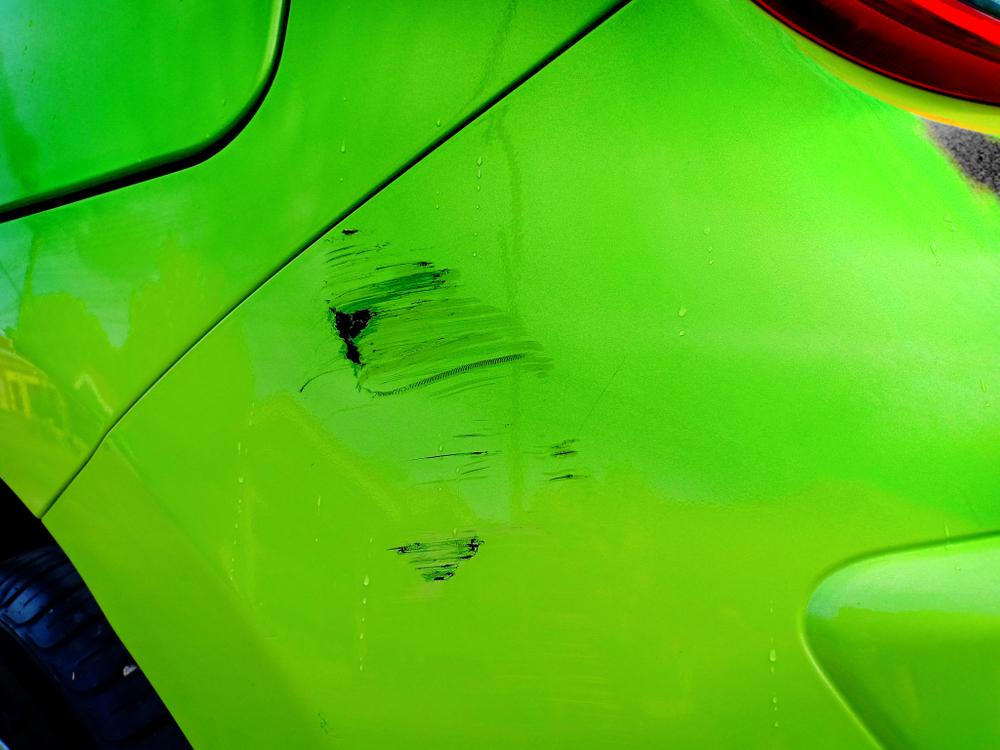scratch: (305, 225, 594, 595)
